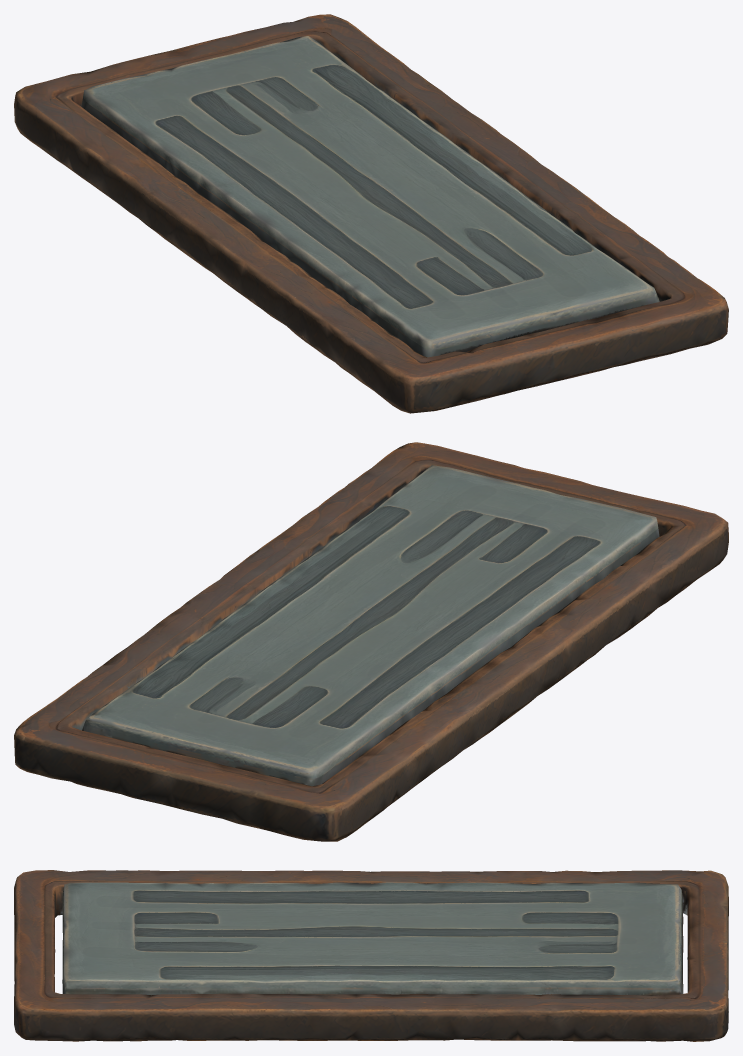
The model's file is Prop_WeightPlate.fbx.
3 renders of one model, top to bottom at view 1: azimuth 30°, elevation 25°; view 2: azimuth 150°, elevation 25°; view 3: azimuth 270°, elevation 25°, orthographic. The views are drawn at different scales.
Parts seen in each view (by area): view 1: texture_mapping; view 2: texture_mapping; view 3: texture_mapping.
Part boxes in pixels (x1,y1,x2,y2): texture_mapping: (14,14,728,413); texture_mapping: (14,442,728,841); texture_mapping: (14,870,728,1041).
Bounding box in the file's own units: 0.4719 × 1 × 0.0632.
1 material, 1 textured.
